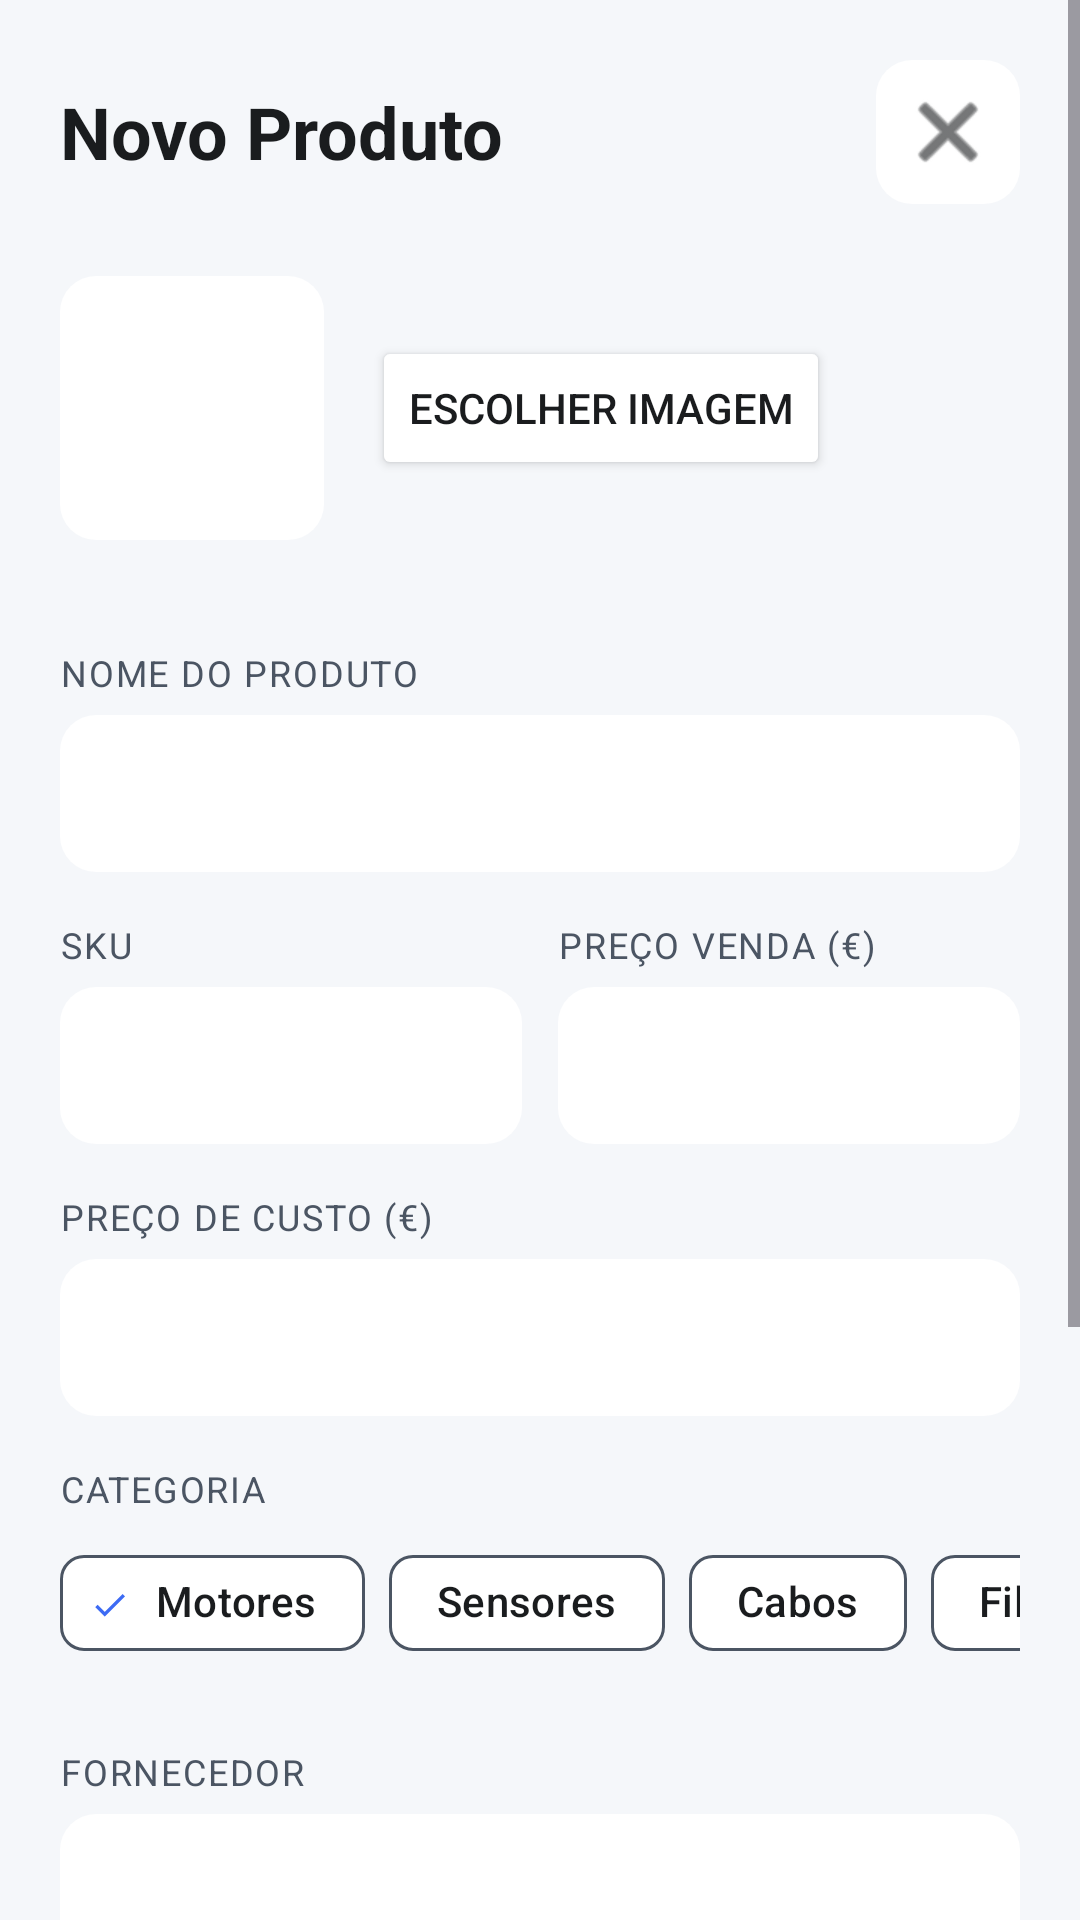

Icons on this 1080px x 1920px Android screen, each with the point to tap as [x,y]:
Fechar: [948,132]
